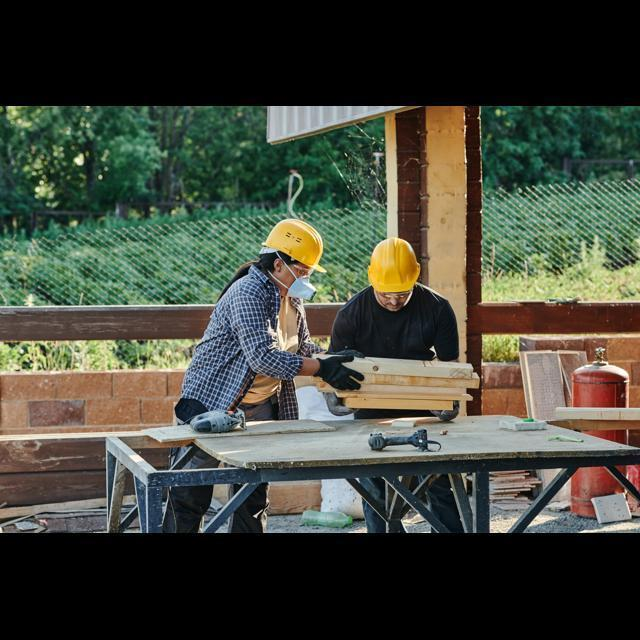Capacete: (262, 219, 325, 272), (368, 237, 419, 292)
